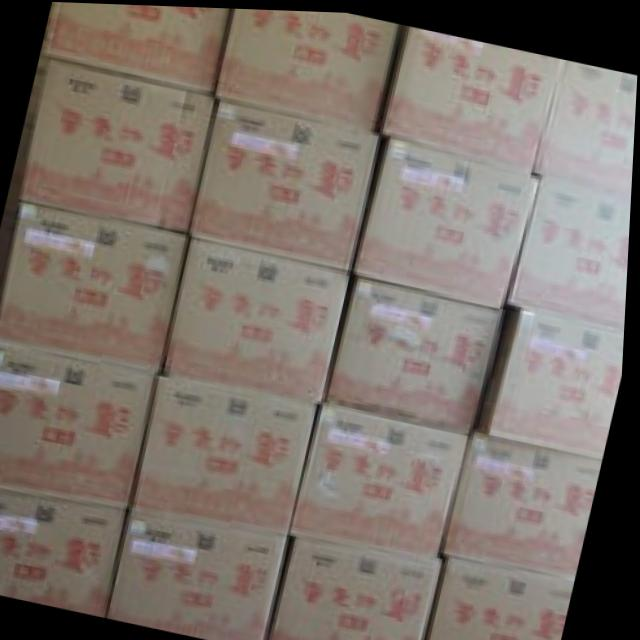box: (0, 202, 191, 374), (23, 59, 215, 230), (355, 133, 539, 308), (191, 97, 380, 267), (167, 237, 353, 398), (135, 374, 321, 532), (296, 398, 472, 557), (328, 274, 508, 429), (384, 22, 563, 170), (0, 343, 161, 505), (113, 508, 292, 640), (449, 427, 607, 571), (216, 7, 401, 129), (493, 303, 627, 454), (510, 170, 633, 327), (275, 533, 444, 640), (40, 1, 229, 92), (0, 487, 131, 616), (536, 55, 638, 192), (434, 553, 581, 640)
